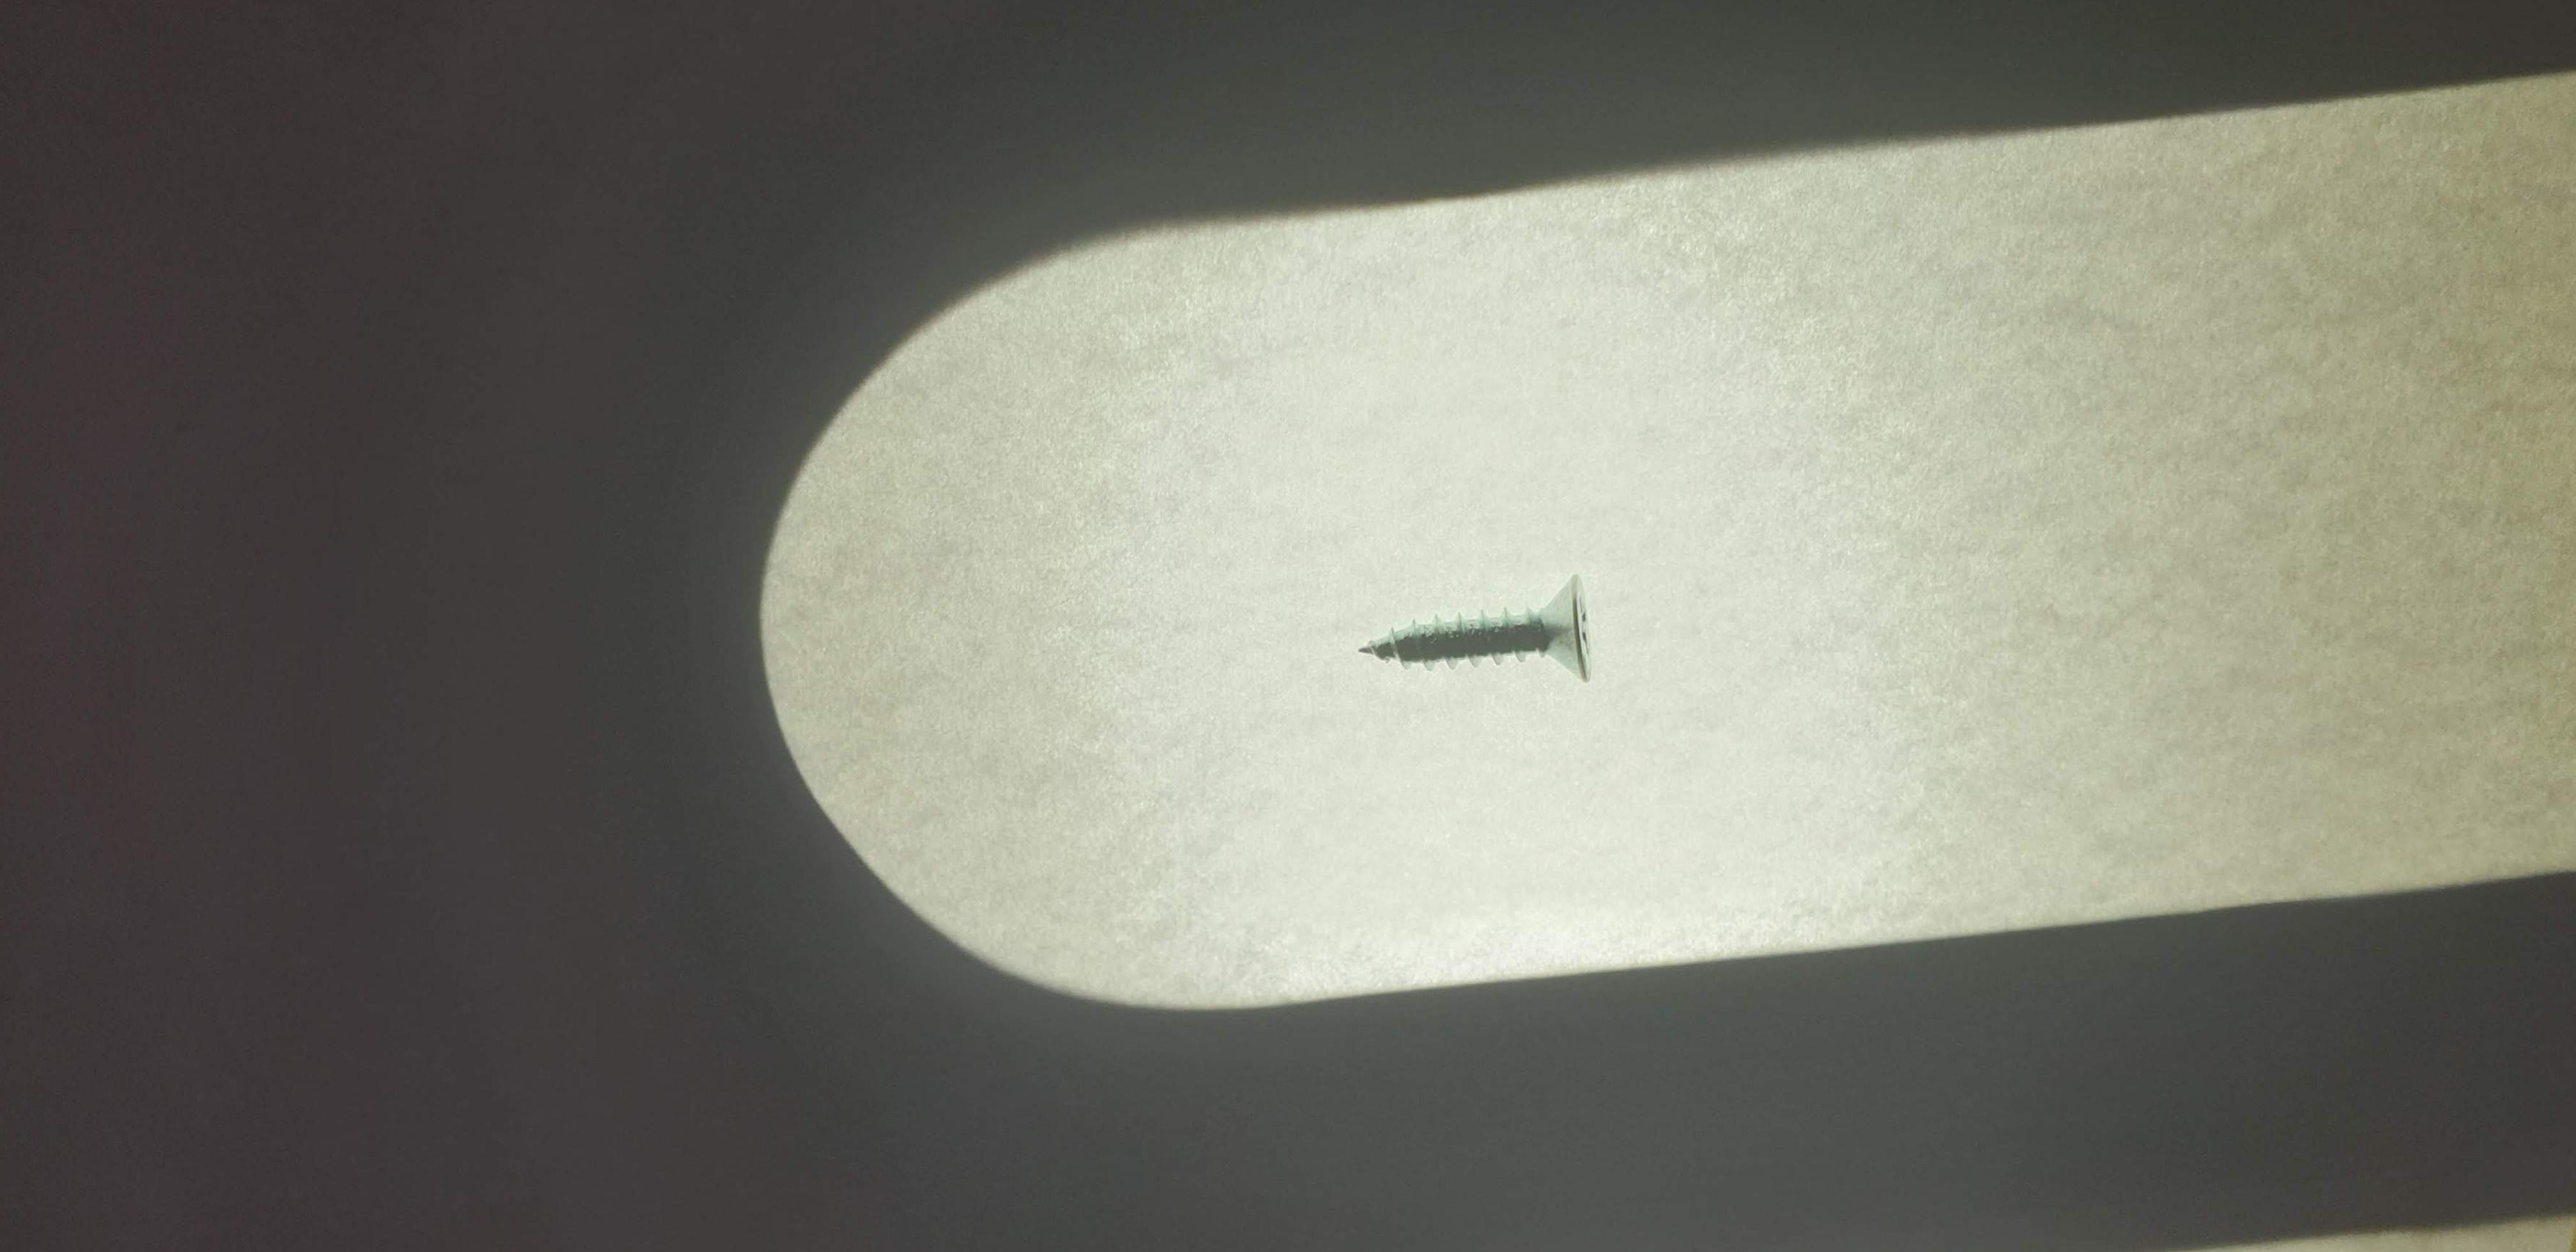S003: (1324, 554, 1646, 715)
